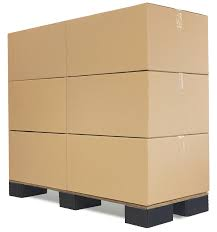box: (66, 133, 150, 212), (68, 1, 146, 77), (67, 70, 147, 139), (146, 2, 209, 76), (147, 132, 208, 204), (146, 70, 208, 139), (7, 130, 68, 192), (6, 20, 68, 80), (5, 77, 67, 133)
pallet: (7, 175, 211, 230)
